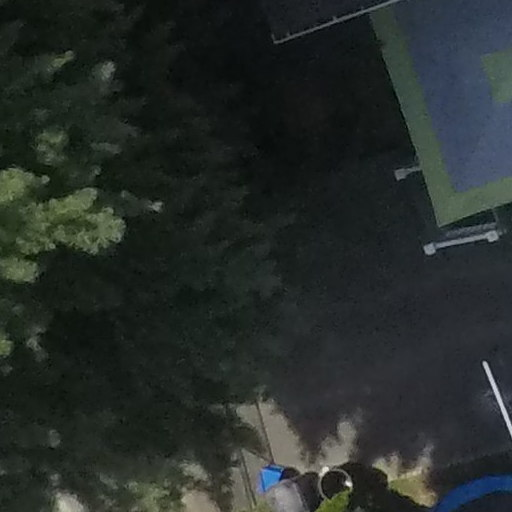trash bin: (263, 465, 310, 512), (310, 462, 358, 504), (247, 459, 287, 494)
